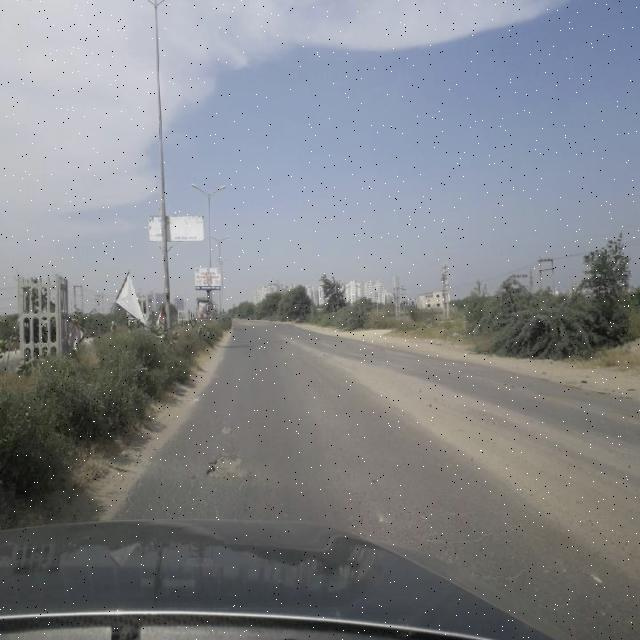D40: (201, 451, 254, 486), (219, 421, 237, 441)
